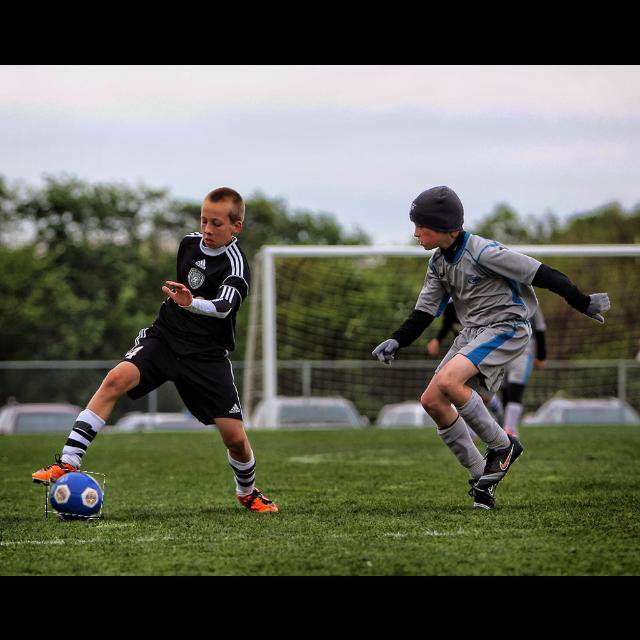Football: (46, 470, 104, 518)
